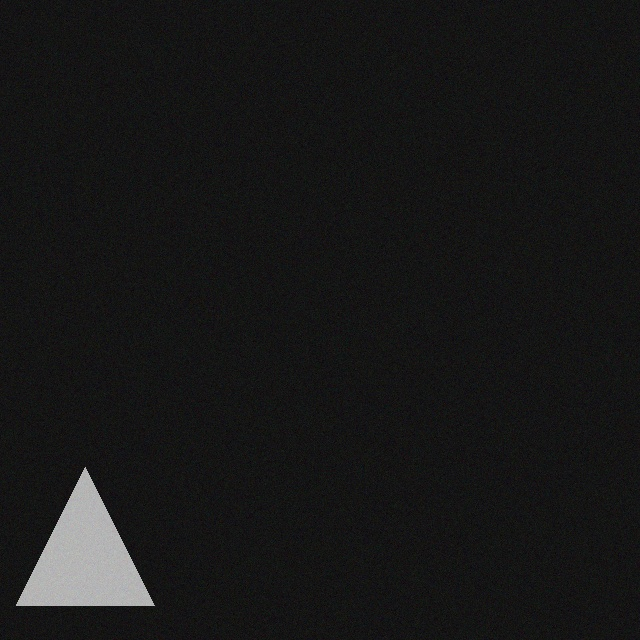triangle: (13, 464, 151, 602)
